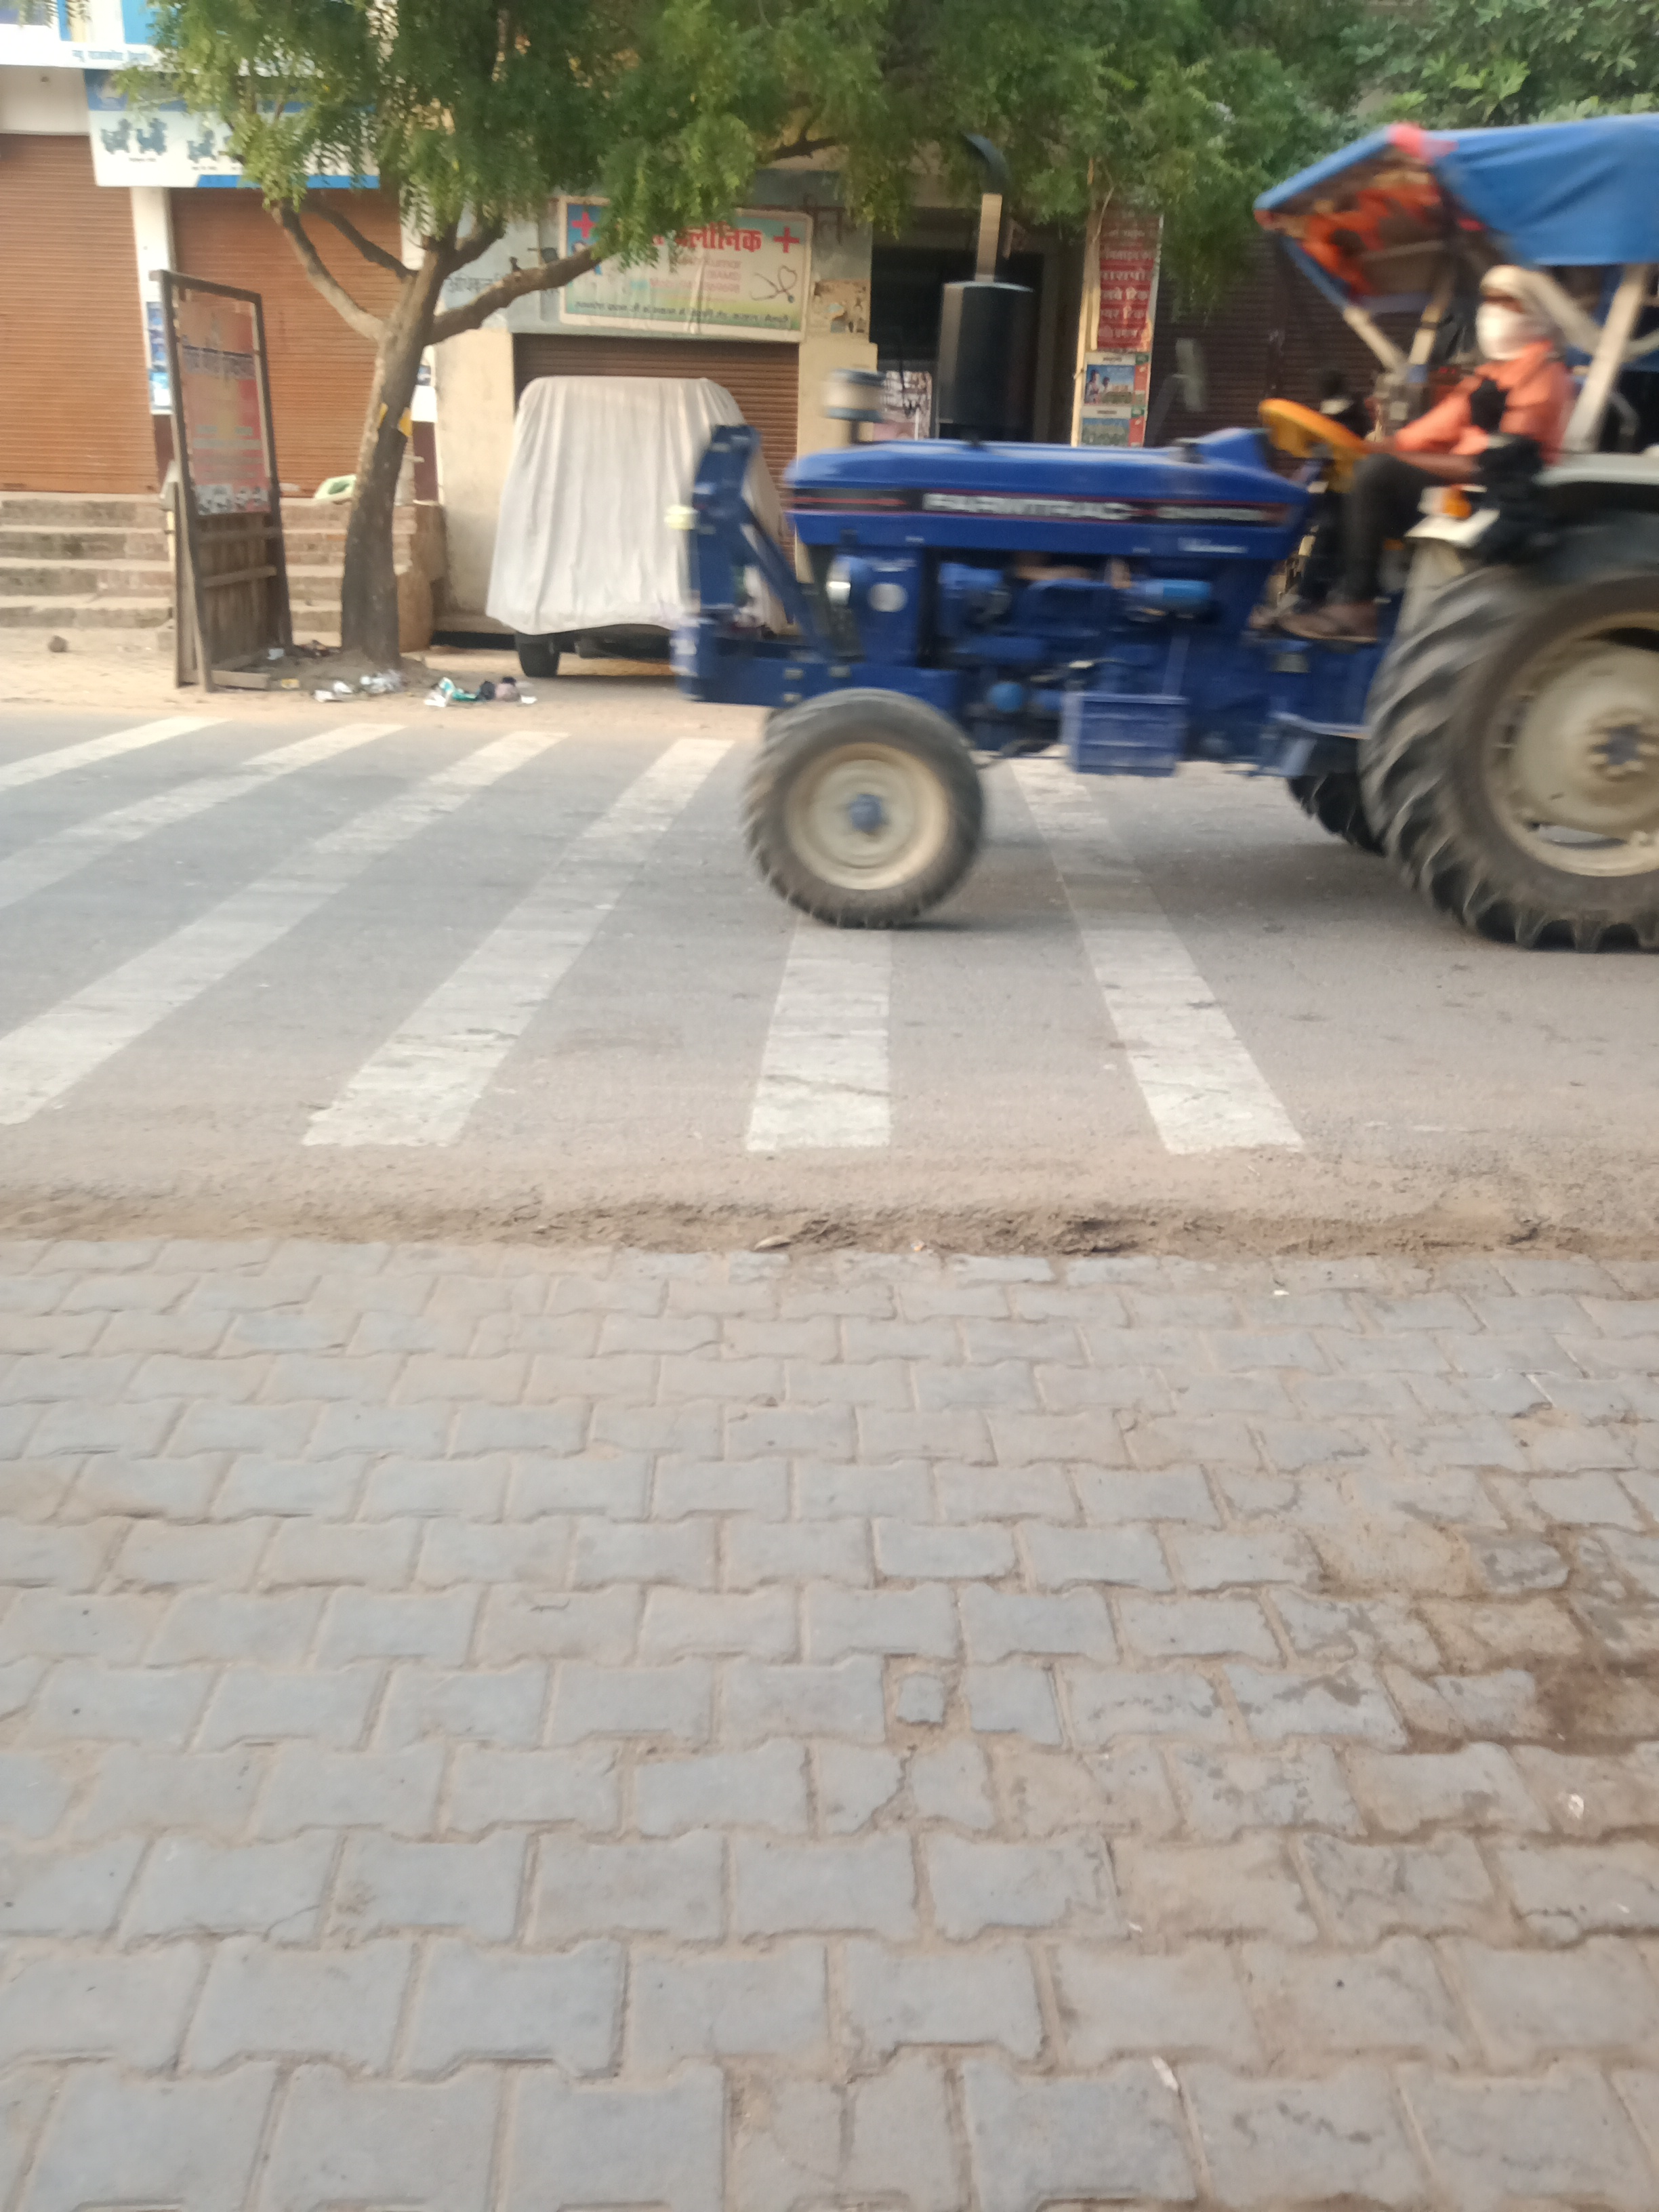tractor: (662, 101, 1659, 961)
